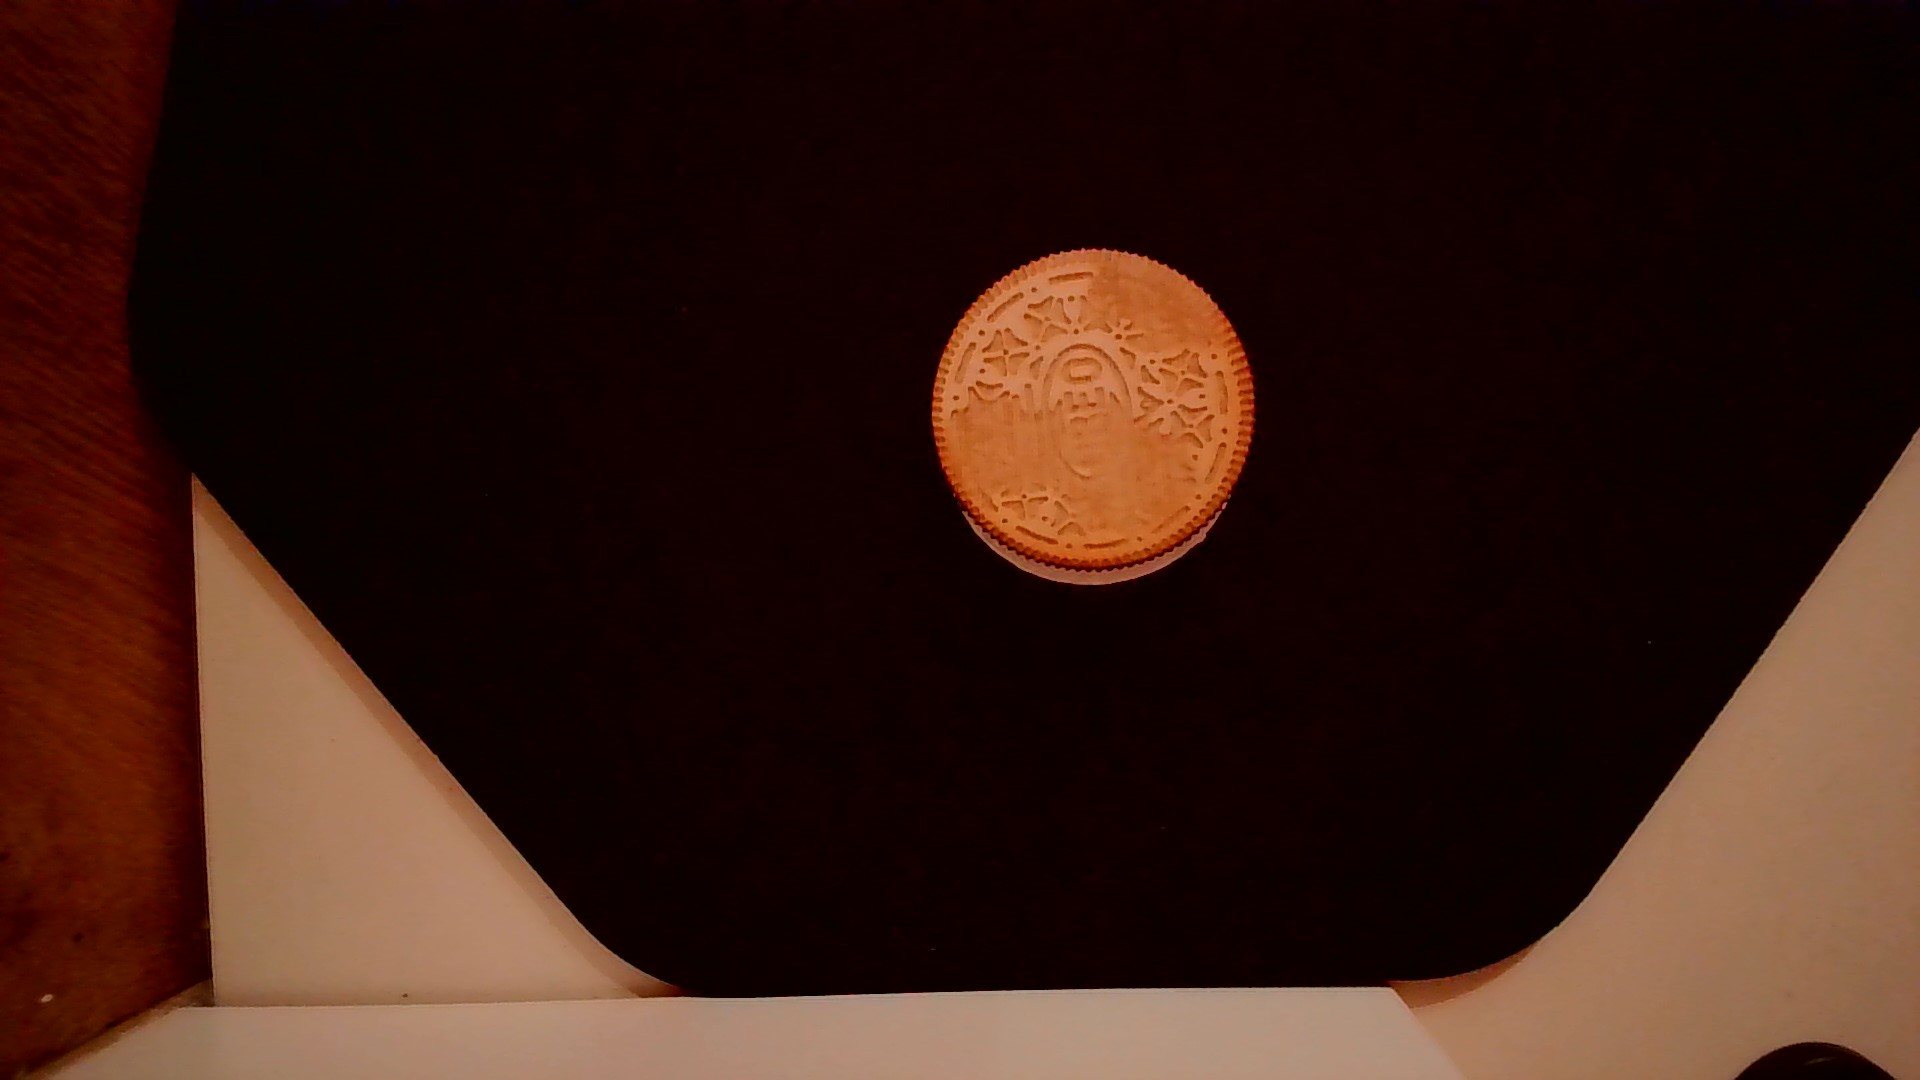Décalé: (949, 485, 1240, 596)
Effacé: (934, 375, 1204, 518), (1095, 252, 1222, 372)
Oréo: (931, 243, 1261, 591)
